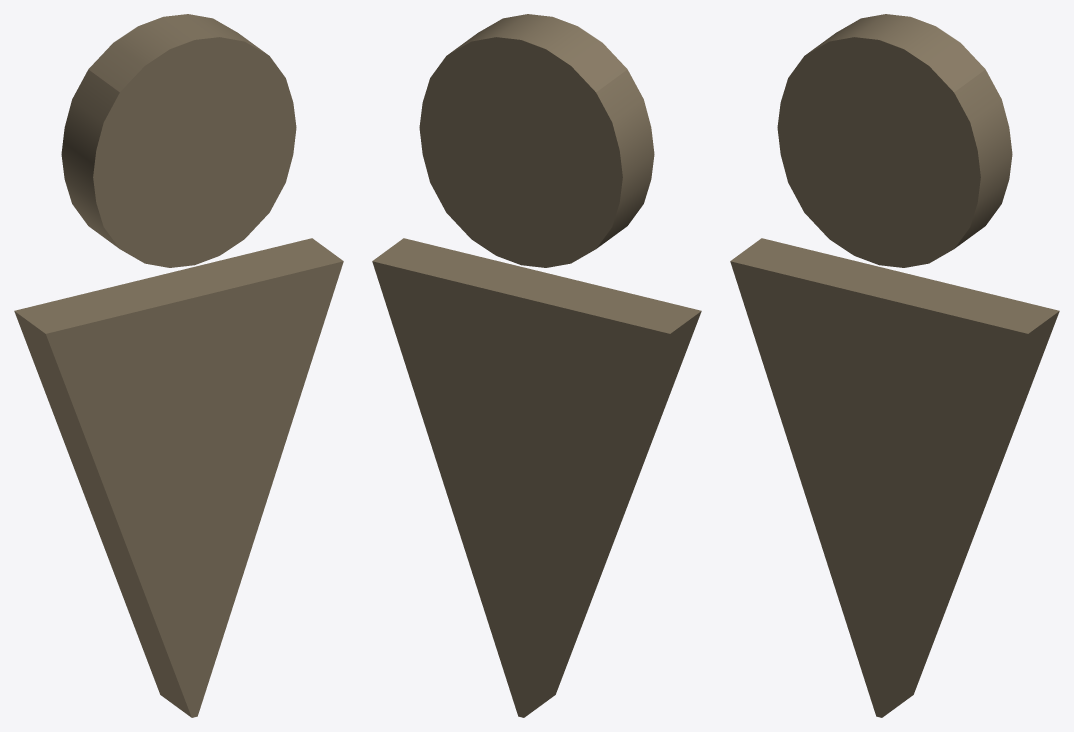
File: person.fbx
3 renders of one model, left to right at view 1: azimuth 30°, elevation 25°; view 2: azimuth 150°, elevation 25°; view 3: azimuth 330°, elevation 25°, orthographic.
Parts seen in each view (by area): view 1: body, head; view 2: body, head; view 3: body, head.
Boxes of the visible parts, x1,y1,x2,y2 form: body: (14, 238, 343, 717); head: (61, 14, 296, 267); body: (372, 238, 701, 717); head: (419, 14, 654, 267); body: (730, 238, 1059, 717); head: (777, 14, 1012, 267).
Bounding box in the file's own units: 3.45 × 7.49 × 0.6331.
